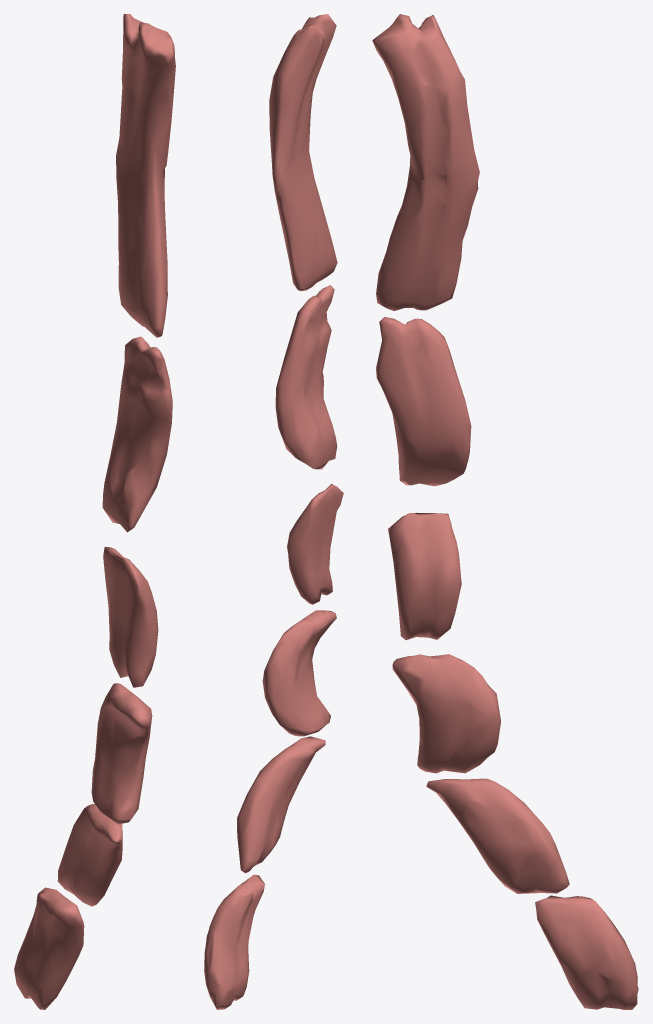
Rendered from fma71309-l_mm1321.glb.
3 renders of one model, left to right at view 1: azimuth 30°, elevation 25°; view 2: azimuth 150°, elevation 25°; view 3: azimuth 270°, elevation 25°, orthographic. The views are drawn at different scales.
Visible parts, largest first — view 1: FMA71309-L_MM1321; view 2: FMA71309-L_MM1321; view 3: FMA71309-L_MM1321.
Boxes of the visible parts, bbox=[...] form: FMA71309-L_MM1321: bbox=[14, 14, 175, 1009]; FMA71309-L_MM1321: bbox=[204, 14, 343, 1009]; FMA71309-L_MM1321: bbox=[372, 14, 638, 1009].
Size of the model in its own units: 0.0053 by 0.0947 by 0.023.
